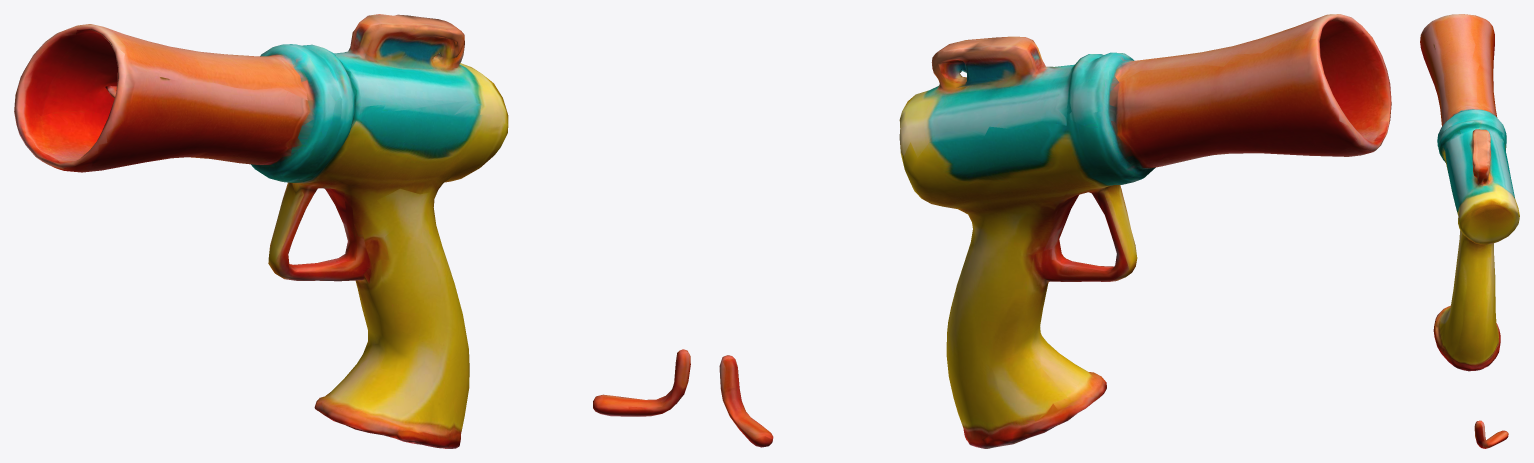
3 renders of one model, left to right at view 1: azimuth 30°, elevation 25°; view 2: azimuth 150°, elevation 25°; view 3: azimuth 270°, elevation 25°, orthographic. The views are drawn at different scales.
Visible parts, largest first — view 1: model; view 2: model; view 3: model.
Boxes of the visible parts, x1,y1,x2,y2 form: model: (14, 14, 690, 448); model: (719, 14, 1391, 448); model: (1420, 14, 1519, 448).
Bounding box in the file's own units: 0.8984 × 0.7006 × 0.2209.
Materials: 1 (1 with a texture image).
